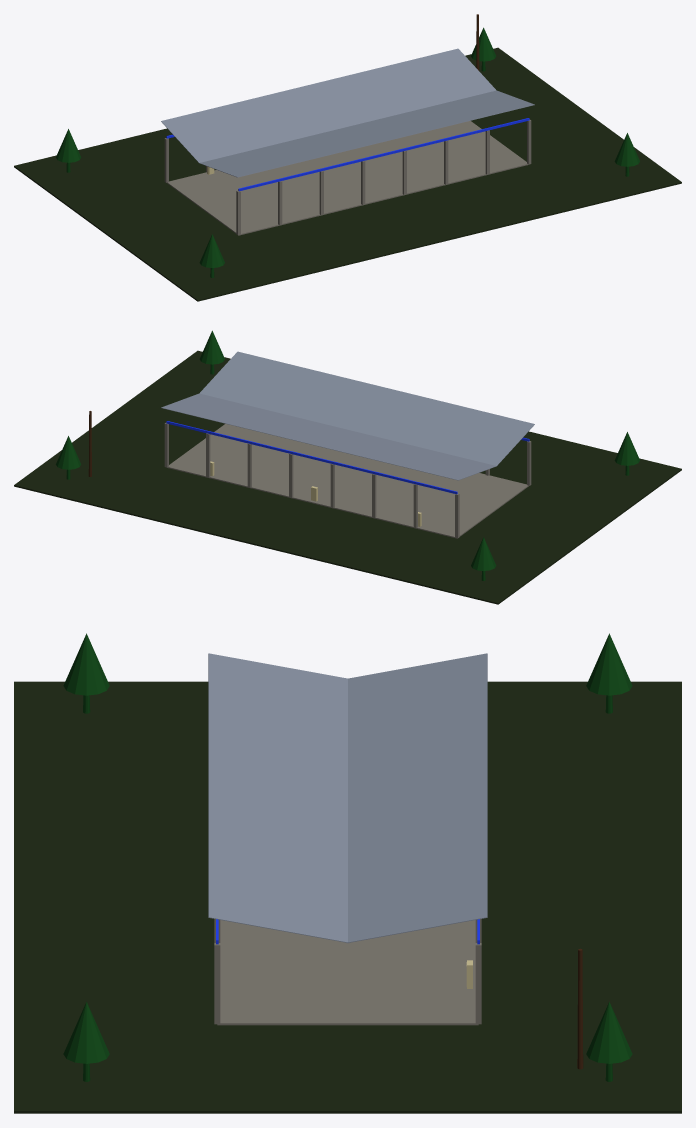
File: galpao.dae
3 views of the same model, one above another, from view 1: azimuth 30°, elevation 25°; view 2: azimuth 150°, elevation 25°; view 3: azimuth 270°, elevation 25° (orthographic). The views are drawn at different scales.
Parts seen in each view (by area): view 1: chao, telhado, laje, arvore.004, arvore.001, arvore.003, arvore.002; view 2: chao, telhado, laje, arvore.002, arvore.003, arvore.004, arvore.001; view 3: chao, telhado, laje, arvore.001, arvore.003, arvore.002, arvore.004.
Part boxes in pixels (x1,y1,x2,y2): chao: [14, 47, 681, 301]; telhado: [161, 48, 534, 177]; laje: [167, 121, 528, 235]; arvore.004: [614, 133, 639, 176]; arvore.001: [56, 129, 81, 172]; arvore.003: [199, 234, 224, 277]; arvore.002: [471, 27, 496, 71]; chao: [14, 350, 681, 604]; telhado: [161, 351, 534, 480]; laje: [167, 424, 528, 538]; arvore.002: [56, 436, 81, 479]; arvore.003: [614, 432, 639, 475]; arvore.004: [199, 330, 224, 374]; arvore.001: [471, 537, 496, 580]; chao: [14, 681, 681, 1113]; telhado: [208, 653, 487, 943]; laje: [217, 920, 478, 1025]; arvore.001: [586, 633, 632, 713]; arvore.003: [63, 633, 109, 713]; arvore.002: [586, 1002, 632, 1081]; arvore.004: [63, 1002, 109, 1081].
Size of the model in its own units: 70 by 9.2 by 46.
